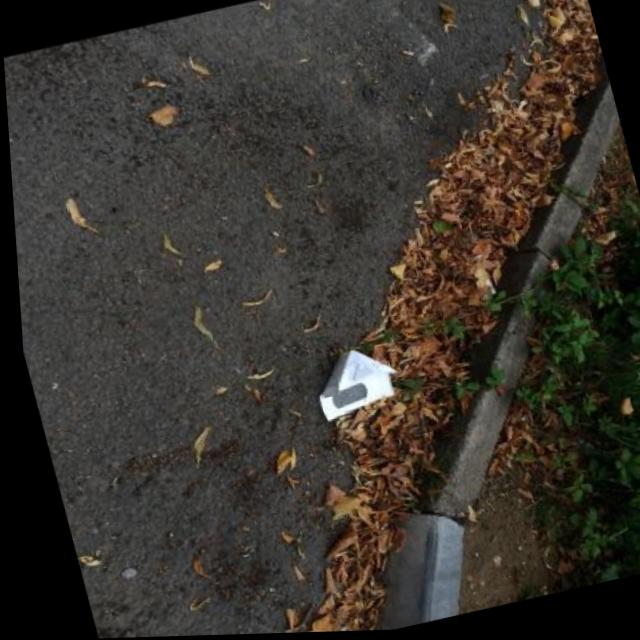cardboard: (307, 338, 409, 421)
